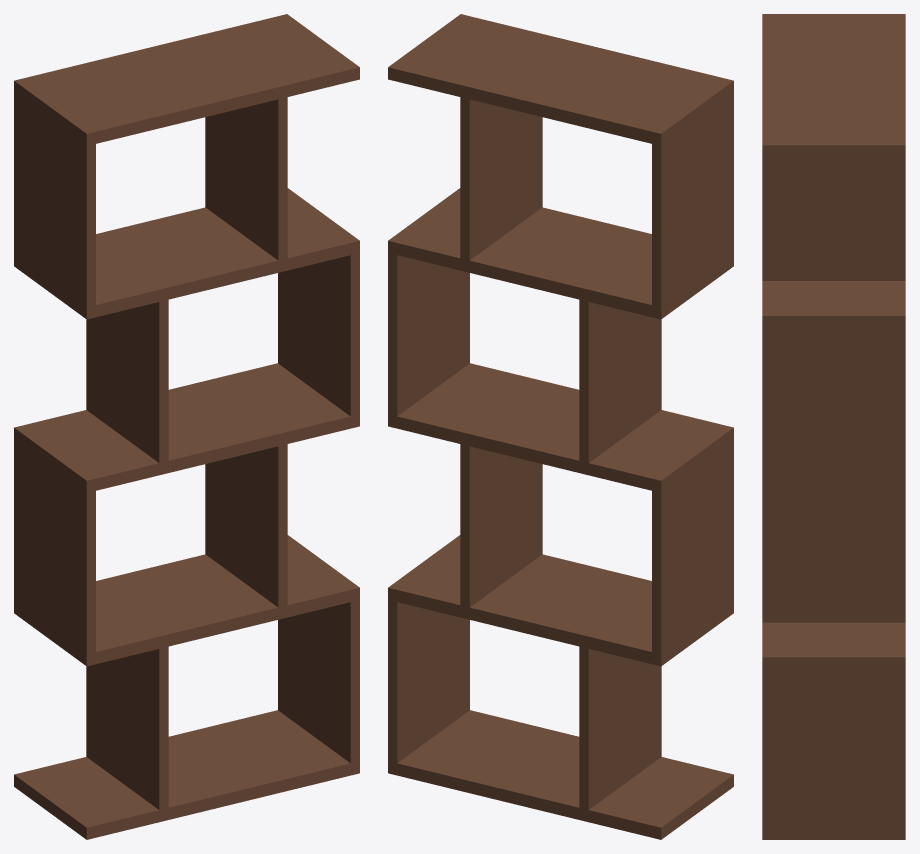
3 renders of one model, left to right at view 1: azimuth 30°, elevation 25°; view 2: azimuth 150°, elevation 25°; view 3: azimuth 270°, elevation 25°, orthographic.
Parts seen in each view (by area): view 1: Body; view 2: Body; view 3: Body.
Boxes of the visible parts, x1=… form: Body: x1=14, y1=14, x2=359, y2=839; Body: x1=388, y1=14, x2=733, y2=839; Body: x1=762, y1=14, x2=905, y2=839.
Bounding box in the file's own units: 58.5 × 145 × 27.
